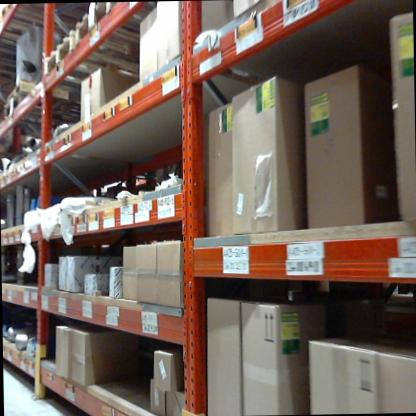pallet: (43, 27, 197, 93), (75, 2, 191, 64), (1, 74, 115, 131), (0, 2, 97, 62), (3, 90, 90, 141)
